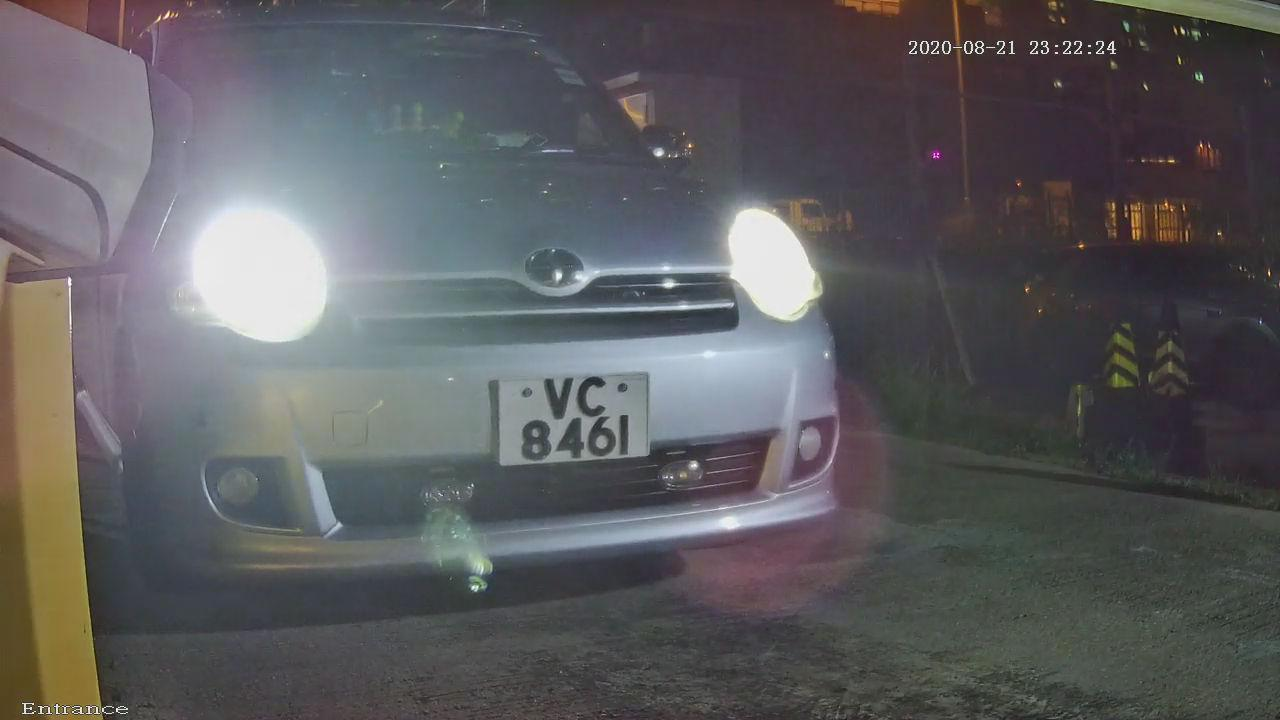Car: (1, 23, 921, 650)
License Plate: (469, 351, 663, 486)
